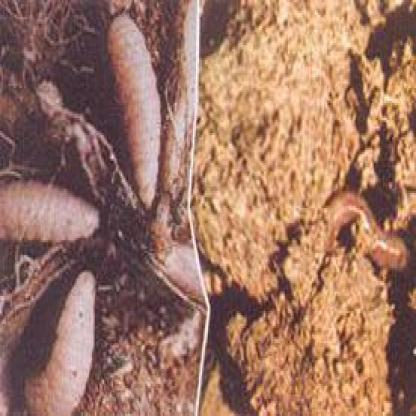whorl-maggot: (20, 268, 108, 415), (105, 14, 168, 213), (1, 178, 109, 248)
